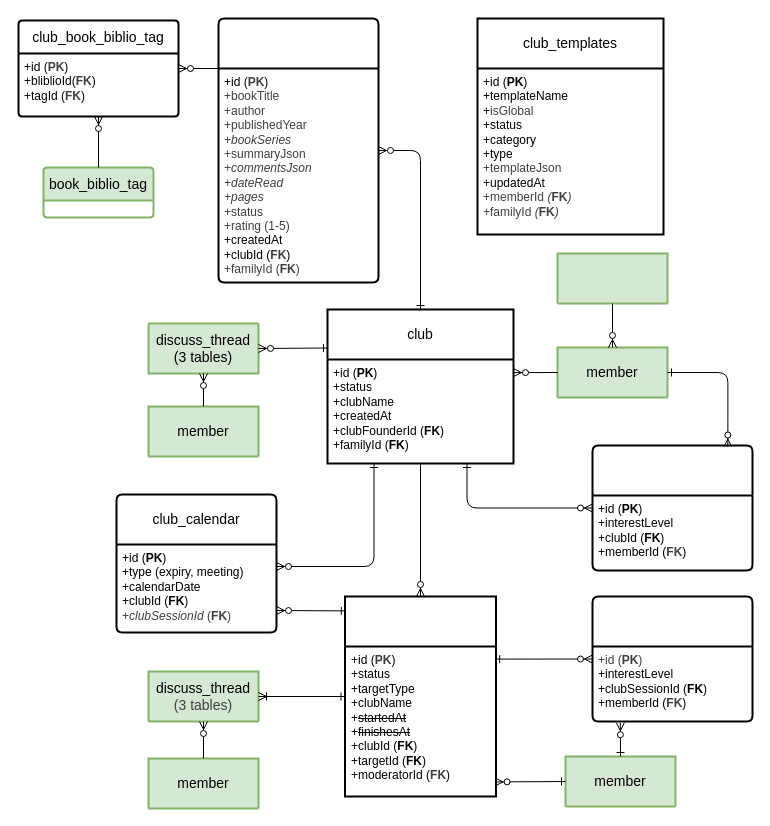
Some shapes in this 770 by 826 pixel diagram are drawn without their labels. Each missing label, with the box of its shape:
club_book_biblio: (217, 17, 379, 283)
club_member_interest: (591, 444, 753, 571)
club_session: (344, 595, 496, 797)
club_session_interest: (591, 595, 753, 722)
family: (556, 252, 668, 304)
